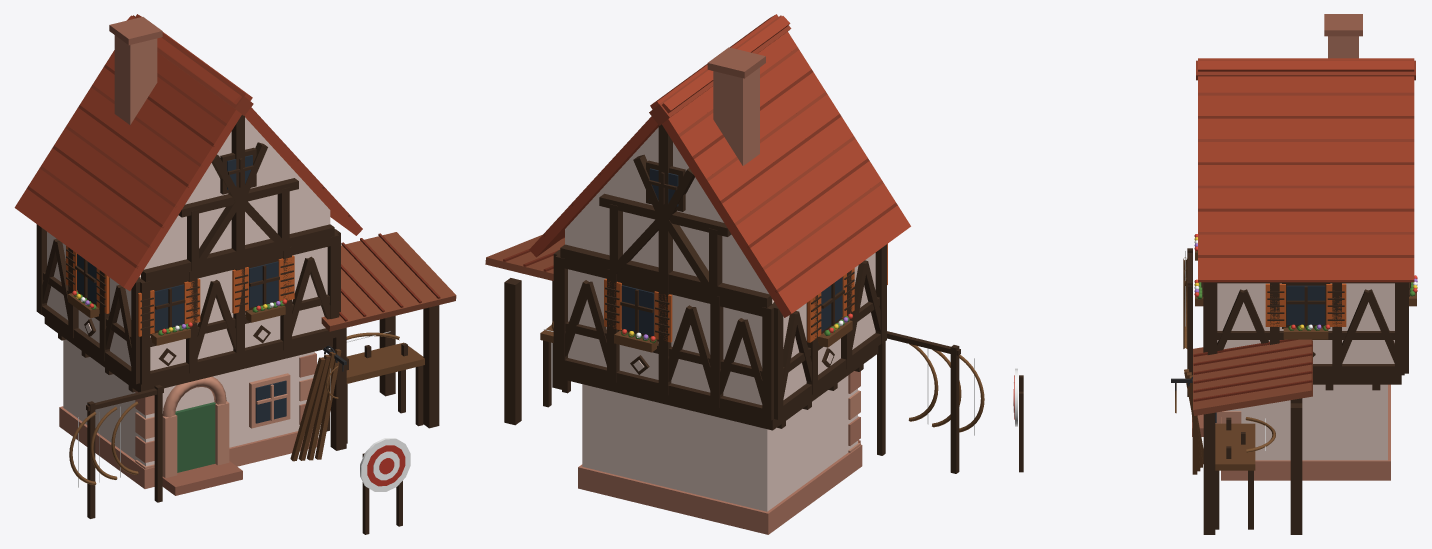
File: bogenbauer.glb
The picture shows the model from 3 angles, left to right: view 1: azimuth 30°, elevation 25°; view 2: azimuth 150°, elevation 25°; view 3: azimuth 270°, elevation 25°; orthographic projection. The views are drawn at different scales.
Bounding box in the file's own units: 4.64 × 4.57 × 4.19.
